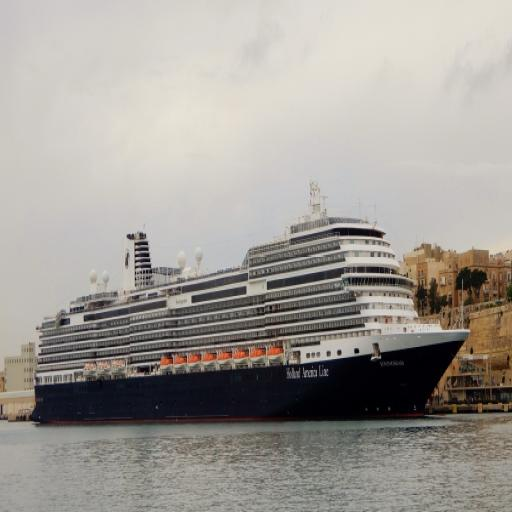cruises: (33, 179, 471, 428)
